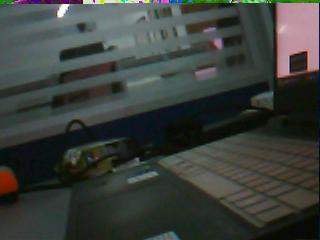oball: (0, 171, 16, 195)
